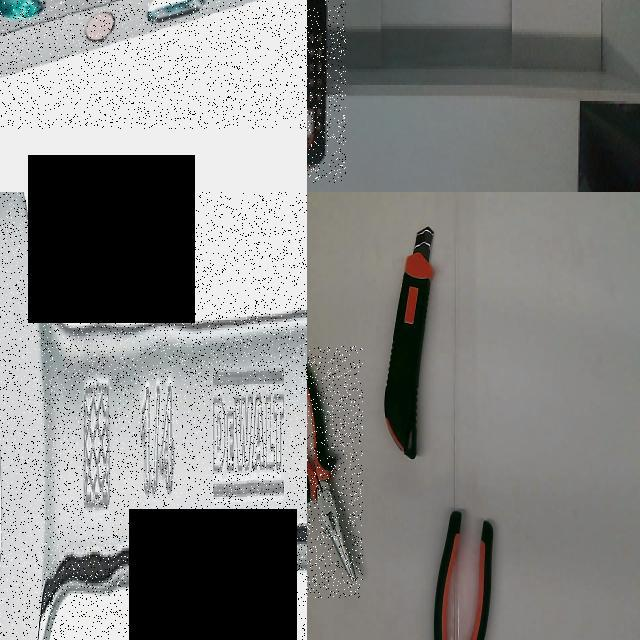estilete: (384, 227, 433, 458)
